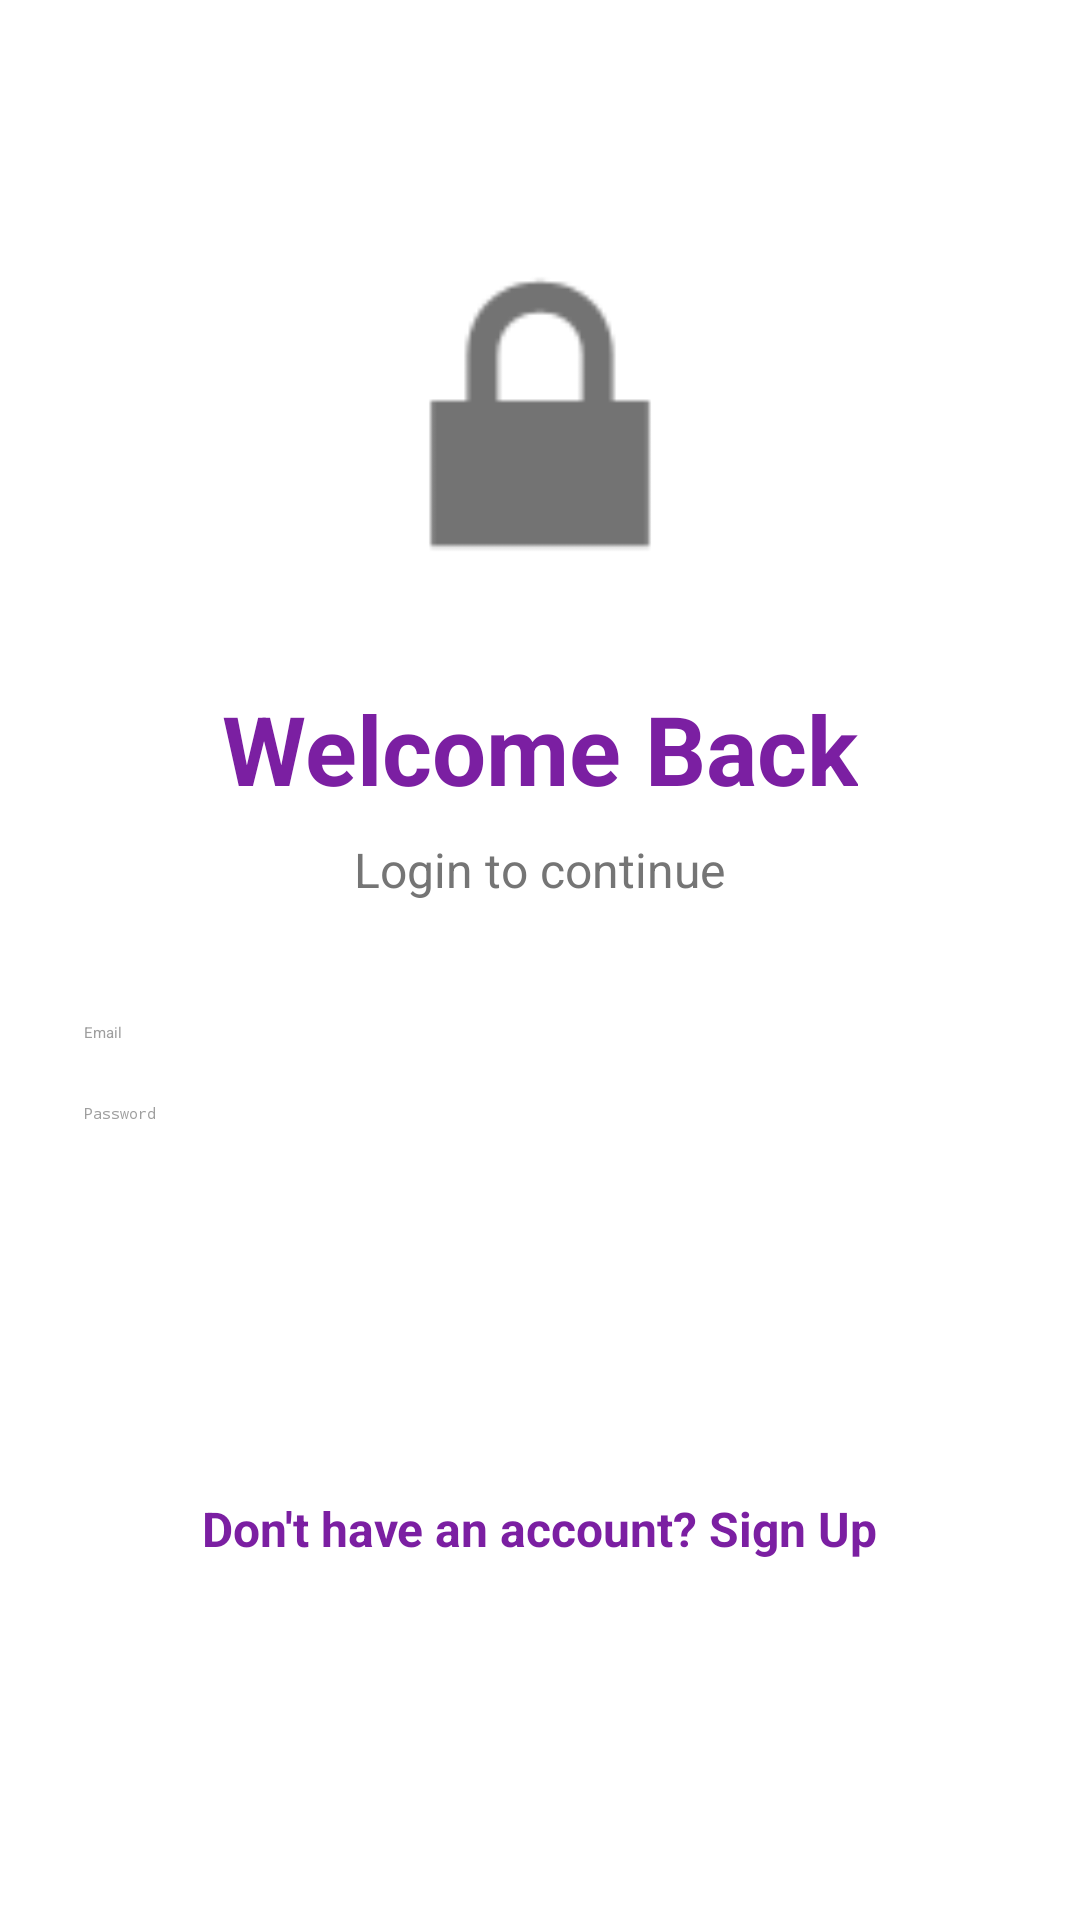

Where icons sit on this 1080 x 1920 app screen, as box(x1, y1, x2, y2):
lock: box(429, 280, 651, 548)
